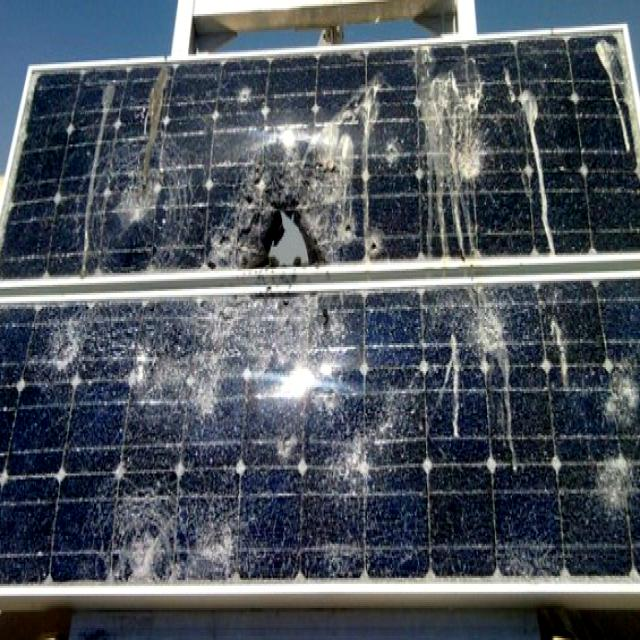hotspot: (206, 302, 350, 422), (464, 286, 538, 470), (406, 50, 489, 209), (235, 164, 345, 282), (93, 498, 194, 592), (92, 148, 180, 252), (587, 353, 640, 524), (111, 332, 193, 439), (30, 302, 100, 408), (509, 49, 553, 211), (588, 36, 640, 156)
